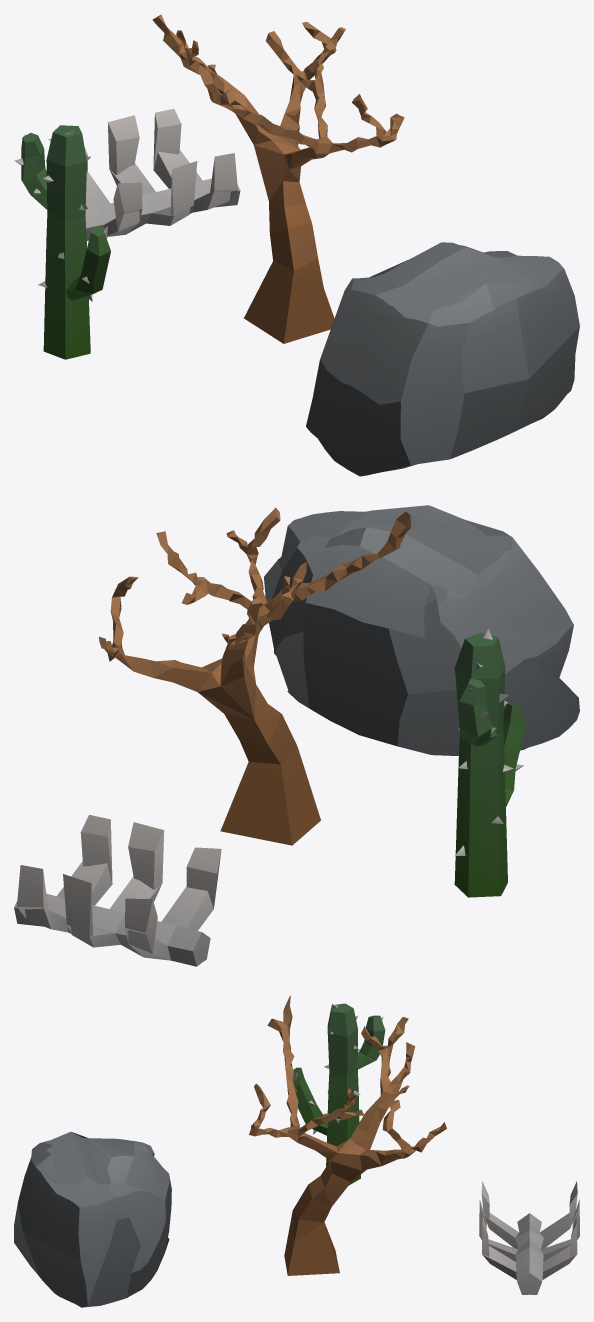
Rendered from nature.fbx.
3 views of the same model, one above another, from view 1: azimuth 30°, elevation 25°; view 2: azimuth 150°, elevation 25°; view 3: azimuth 270°, elevation 25° (orthographic). The views are drawn at different scales.
Parts seen in each view (by area): view 1: Cube.002, Cube, Cylinder.001, Cylinder.002; view 2: Cube.002, Cube, Cylinder.002, Cylinder.001; view 3: Cube.002, Cube, Cylinder.002, Cylinder.001.
Part boxes in pixels (box(x1,y1,x2,y2)): Cube.002: box(306, 242, 579, 476); Cube: box(152, 14, 404, 343); Cylinder.001: box(14, 125, 110, 359); Cylinder.002: box(84, 108, 240, 240); Cube.002: box(264, 505, 579, 755); Cube: box(99, 507, 410, 845); Cylinder.002: box(14, 815, 221, 966); Cylinder.001: box(454, 628, 525, 897); Cube.002: box(14, 1131, 171, 1307); Cube: box(249, 996, 446, 1275); Cylinder.002: box(479, 1181, 579, 1294); Cylinder.001: box(293, 1003, 385, 1185).
Size of the model in its own units: 659 by 503 by 1106.
Materials: 1 (1 with a texture image).
